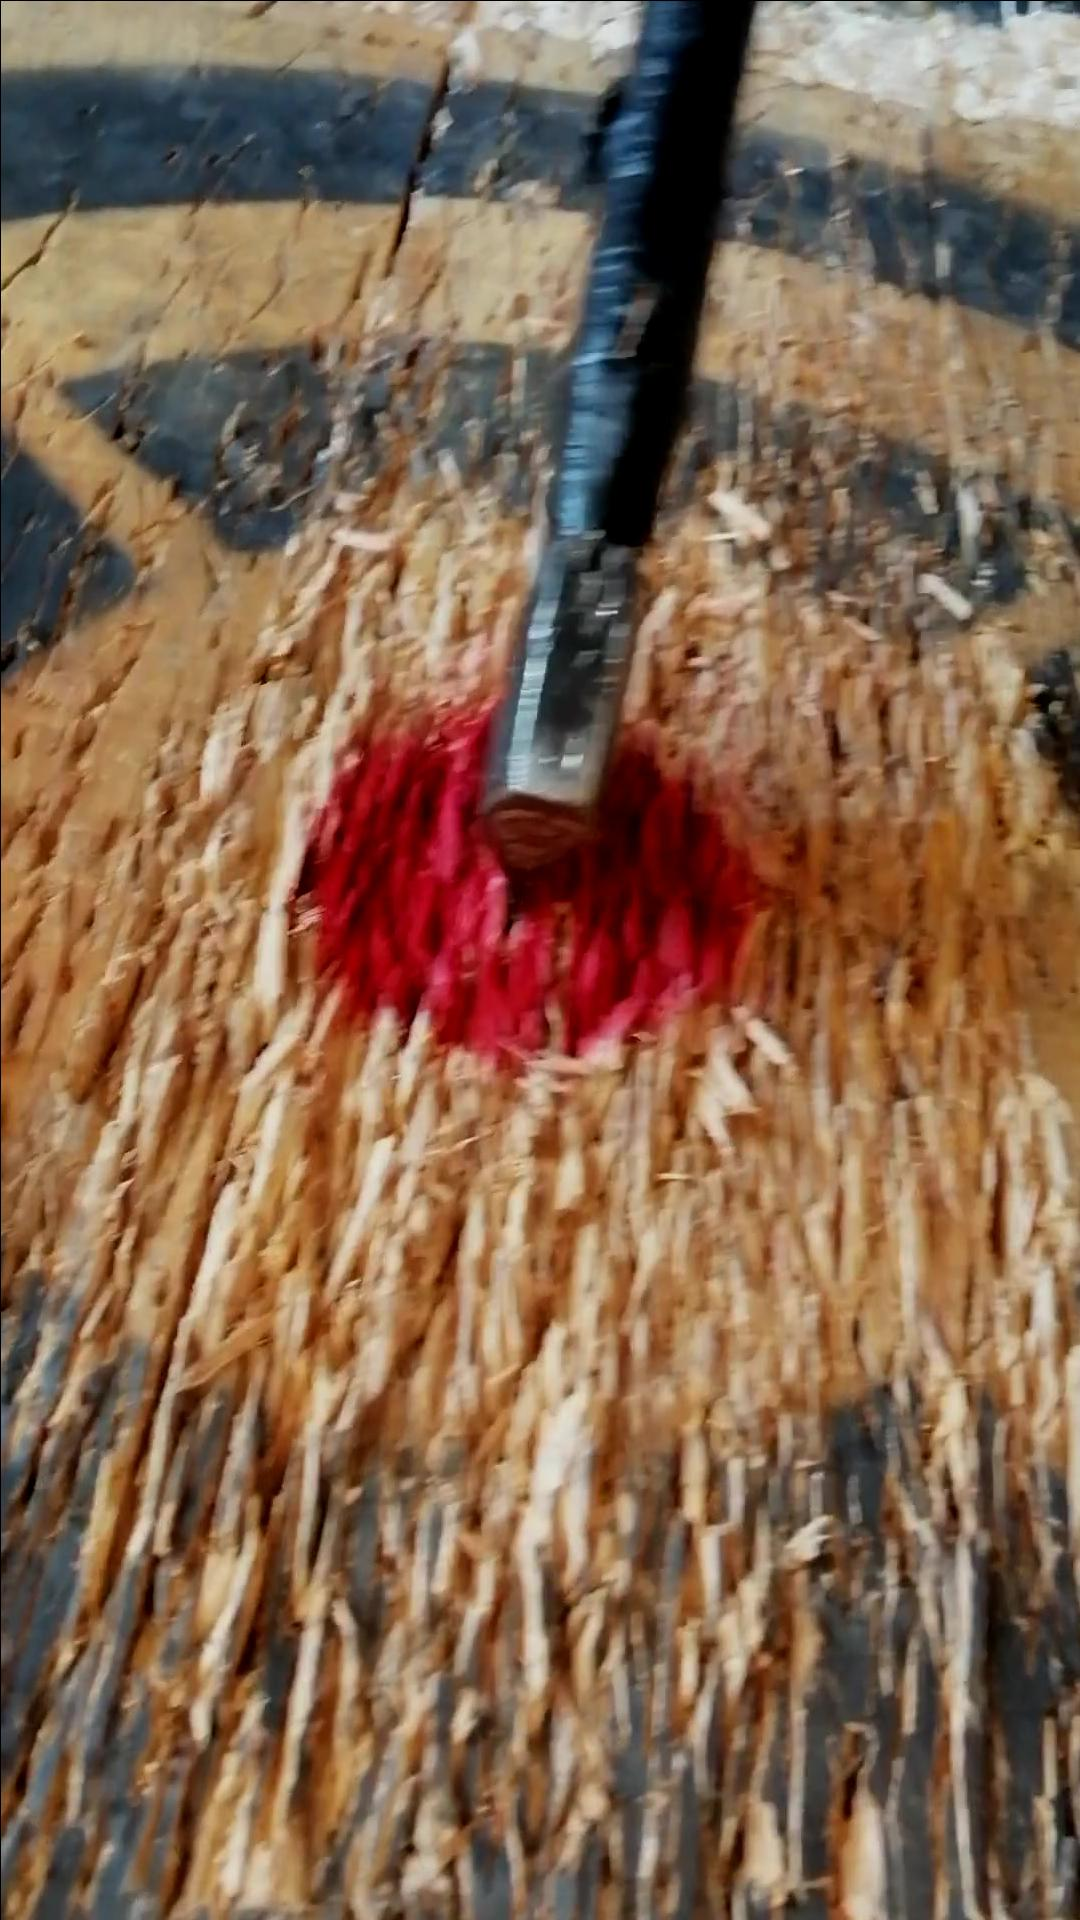Hand Axe: (479, 527, 640, 877)
